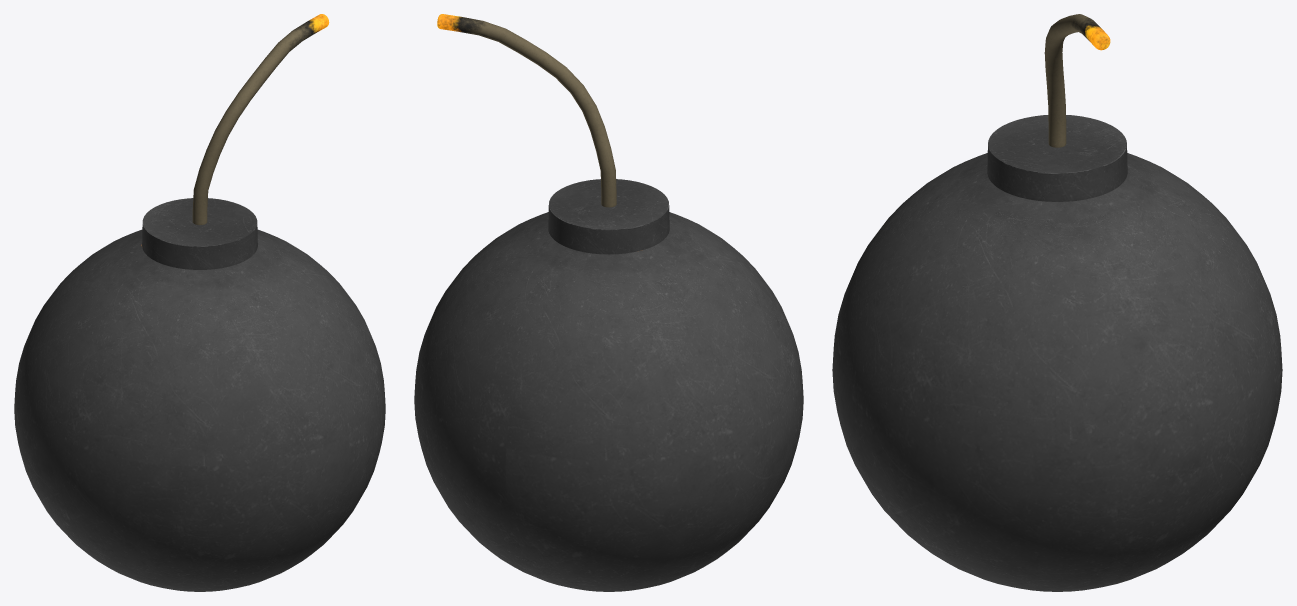
Rendered from bomb.glb.
3 views of the same model, side by side, from view 1: azimuth 30°, elevation 25°; view 2: azimuth 150°, elevation 25°; view 3: azimuth 270°, elevation 25° (orthographic). The views are drawn at different scales.
Parts seen in each view (by area): view 1: pSphere1, pCylinder2; view 2: pSphere1, pCylinder2; view 3: pSphere1, pCylinder2.
Boxes of the visible parts, x1,y1,x2,y2 form: pSphere1: (14,198,385,591); pCylinder2: (192,14,329,225); pSphere1: (414,179,803,591); pCylinder2: (437,14,616,207); pSphere1: (832,115,1282,591); pCylinder2: (1044,14,1110,147).
Size of the model in its own units: 3.77 by 5.74 by 3.77.
1 material, 1 textured.
